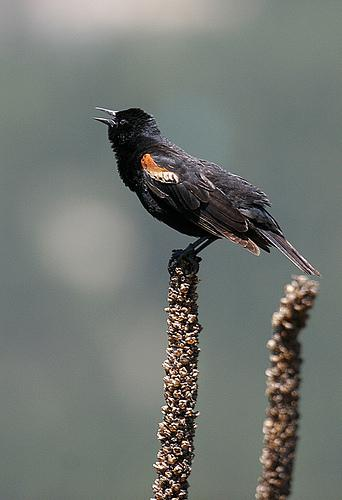010.Red_winged_Blackbird: (93, 100, 319, 276)
